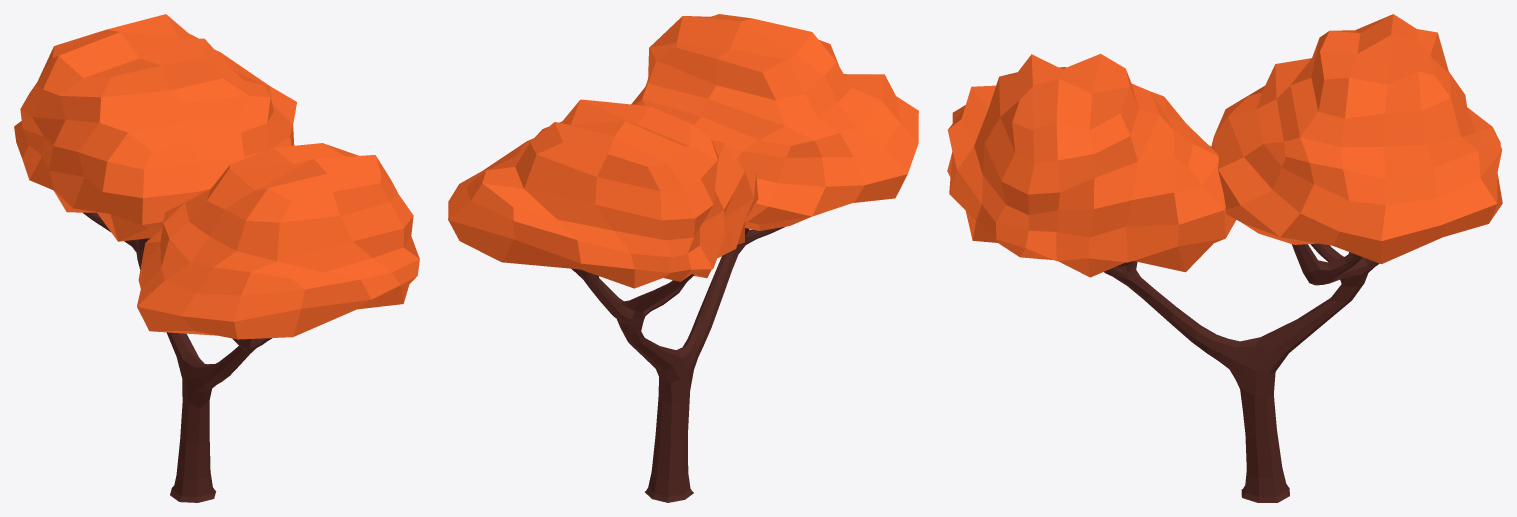
Rendered from CommonTree_Autumn_1.glb.
The picture shows the model from 3 angles, left to right: view 1: azimuth 30°, elevation 25°; view 2: azimuth 150°, elevation 25°; view 3: azimuth 270°, elevation 25°; orthographic projection. The views are drawn at different scales.
Parts seen in each view (by area): view 1: CommonTree_Autumn_1; view 2: CommonTree_Autumn_1; view 3: CommonTree_Autumn_1.
Boxes of the visible parts, x1,y1,x2,y2 form: CommonTree_Autumn_1: [14, 14, 419, 502]; CommonTree_Autumn_1: [448, 14, 918, 502]; CommonTree_Autumn_1: [947, 14, 1502, 502].
Bounding box in the file's own units: 189 × 248 × 277.
